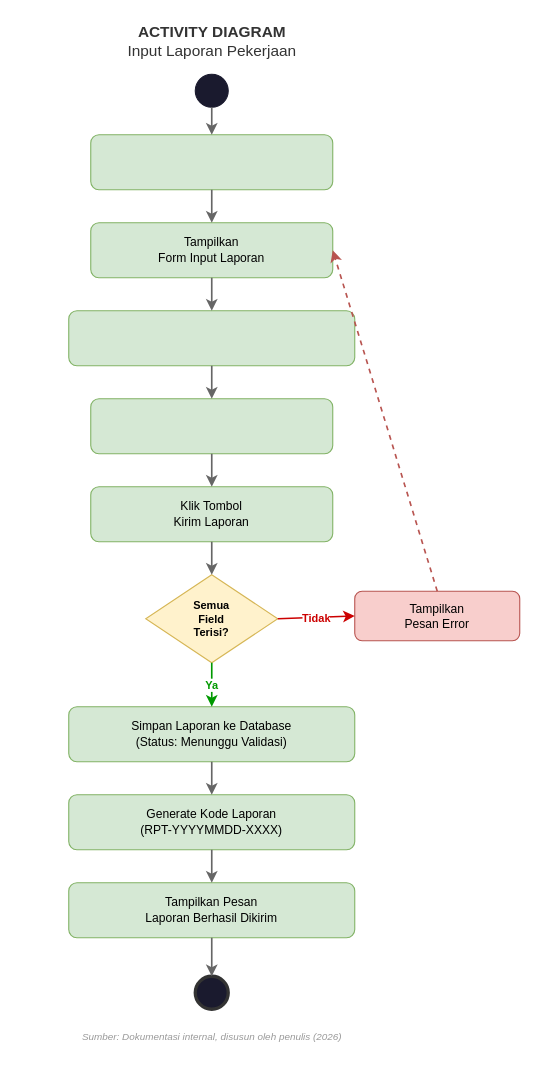
Image size: 539x1066. Some labels were removed from this diagram. The centre of each missing label's shape, as x and y in pixels:
"Input Data Laporan (Jenis, Lokasi, Tanggal, Deskripsi)" goes at pixel 211 338.
"Klik Tombol (+) Tambah Laporan" goes at pixel 211 162.
"Upload Foto Pendukung (Maks. 5 Foto)" goes at pixel 211 426.
